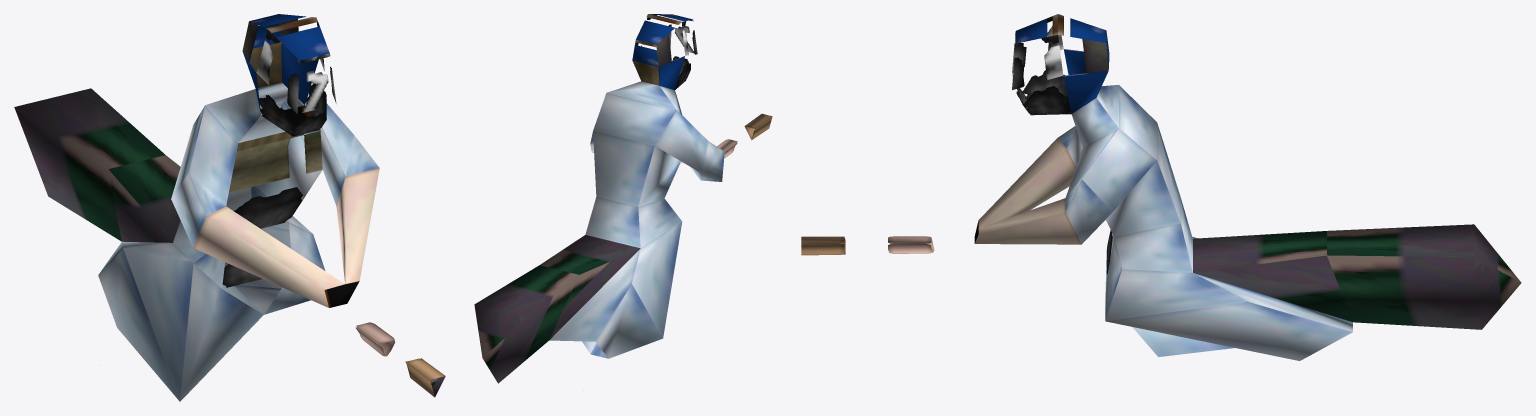
3 views of the same model, side by side, from view 1: azimuth 30°, elevation 25°; view 2: azimuth 150°, elevation 25°; view 3: azimuth 270°, elevation 25° (orthographic). The views are drawn at different scales.
Parts seen in each view (by area): view 1: T1L2M007_0; view 2: T1L2M007_0; view 3: T1L2M007_0.
Boxes of the visible parts, <box> form: T1L2M007_0: <box>14,14,445,401</box>; T1L2M007_0: <box>474,14,772,383</box>; T1L2M007_0: <box>801,14,1521,360</box>.
Size of the model in its own units: 0.4805 by 1.1 by 1.87.
